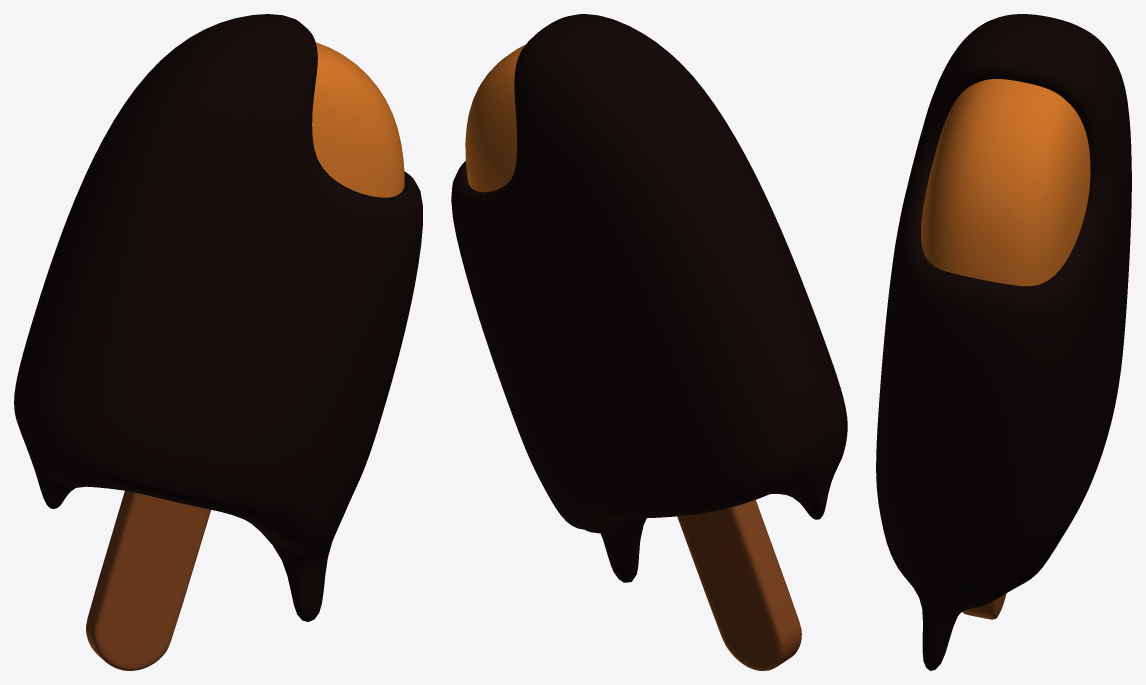
Rendered from Popsicle.obj.
3 renders of one model, left to right at view 1: azimuth 30°, elevation 25°; view 2: azimuth 150°, elevation 25°; view 3: azimuth 270°, elevation 25°, orthographic. The views are drawn at different scales.
Visible parts, largest first — view 1: Cube.086_Cube.179, Cylinder.079_Cylinder.161, Cube.087_Cube.178; view 2: Cube.086_Cube.179, Cylinder.079_Cylinder.161, Cube.087_Cube.178; view 3: Cube.086_Cube.179, Cube.087_Cube.178, Cylinder.079_Cylinder.161.
Part boxes in pixels (x1,y1,x2,y2): Cube.086_Cube.179: (14,14,422,621); Cylinder.079_Cylinder.161: (86,491,210,670); Cube.087_Cube.178: (312,42,404,197); Cube.086_Cube.179: (451,14,847,582); Cylinder.079_Cylinder.161: (677,500,801,670); Cube.087_Cube.178: (465,45,524,192); Cube.086_Cube.179: (876,14,1131,670); Cube.087_Cube.178: (921,79,1090,286); Cylinder.079_Cylinder.161: (962,593,1006,619).
Size of the model in its own units: 5.37 by 8.26 by 2.87.
